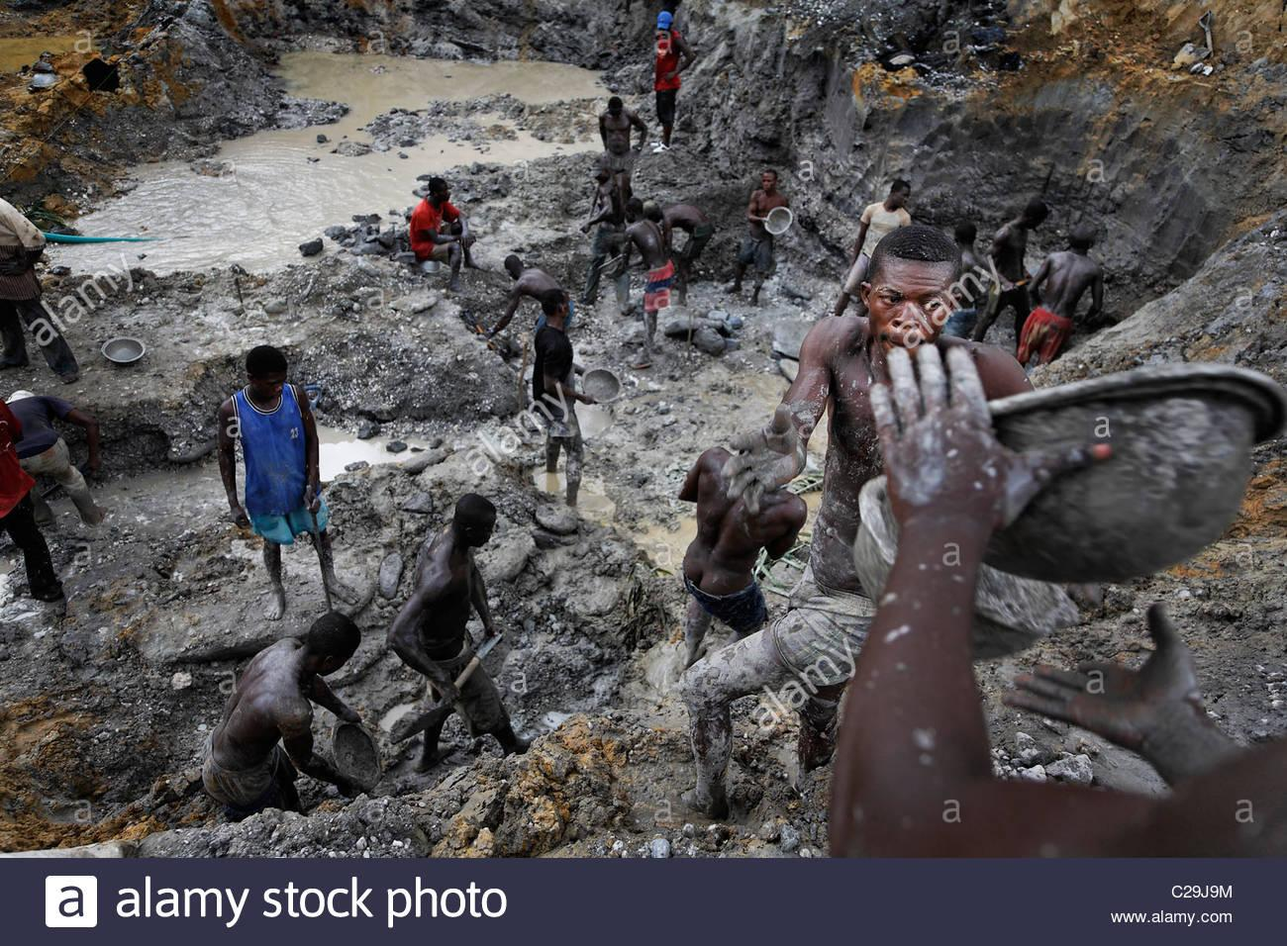MiningTool: (955, 356, 1287, 588), (851, 471, 1079, 662), (390, 624, 503, 747), (329, 715, 389, 793), (581, 366, 620, 408), (102, 338, 146, 366), (583, 172, 603, 233), (1197, 11, 1221, 60), (764, 206, 795, 237), (597, 255, 628, 276), (32, 72, 58, 86), (423, 260, 443, 272)
Person: (825, 336, 1287, 860), (657, 220, 1047, 833), (391, 491, 540, 768), (217, 342, 365, 619), (200, 602, 372, 820), (678, 412, 809, 685), (529, 286, 600, 512), (4, 387, 117, 526), (1, 394, 69, 618), (1, 193, 77, 390), (1016, 220, 1107, 379), (828, 175, 922, 323), (479, 251, 573, 388), (973, 200, 1051, 349), (720, 164, 795, 307), (405, 175, 483, 297), (639, 12, 698, 152), (599, 92, 649, 223), (940, 221, 990, 344)
